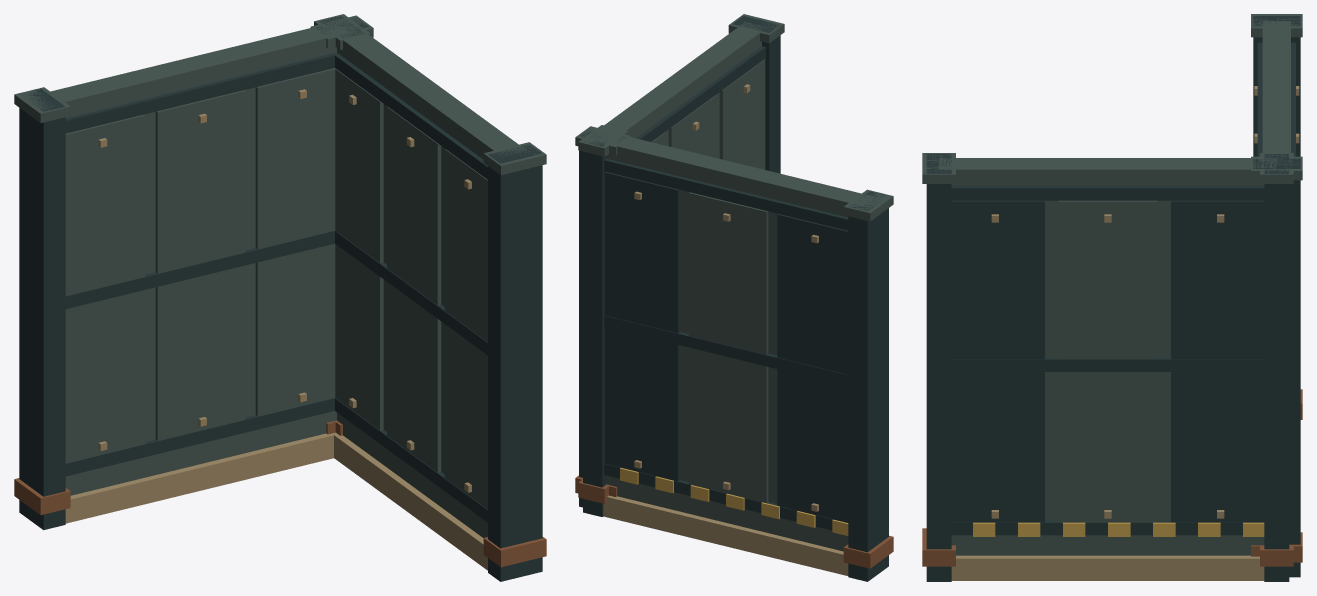
Rendered from FSA_ENV_Protected_Corner.glb.
The picture shows the model from 3 angles, left to right: view 1: azimuth 30°, elevation 25°; view 2: azimuth 150°, elevation 25°; view 3: azimuth 270°, elevation 25°; orthographic projection. The views are drawn at different scales.
Visible parts, largest first — view 1: X_PlateBack1_5, X_PlateBack0_5, X_PlateBack2_5, Z_Post3, X_ContinuousBlocker, X_Post0, Z_PlateBack1_5, Z_PlateBack0_5, Z_PlateBack2_5, Z_ContinuousBlocker, X_Foot, Z_Foot (+11 smaller); view 2: X_Plate1_5, X_Plate2_5, X_Plate0_5, X_ContinuousBlocker, X_Post0, X_Post3, X_Foot, Z_ContinuousBlocker, Z_PlateBack2_5, X_Rail3_78, X_Rail2_1, Z_Post3 (+9 smaller); view 3: Z_Plate1_5, Z_Plate0_5, Z_Plate2_5, Z_ContinuousBlocker, Z_Post3, Z_Post0, Z_Foot, X_Post3, Z_Rail3_78, Z_Rail2_1, X_ContinuousBlocker, Z_Rail0_5 (+7 smaller).
Boxes of the visible parts, box(x1,y1,x2,y2) form: X_PlateBack1_5: box(155, 90, 245, 440); X_PlateBack0_5: box(65, 114, 145, 463); X_PlateBack2_5: box(255, 68, 335, 416); Z_Post3: box(488, 144, 542, 581); X_ContinuousBlocker: box(50, 22, 348, 495); X_Post0: box(19, 89, 65, 530); Z_PlateBack1_5: box(387, 106, 441, 472); Z_PlateBack0_5: box(335, 69, 383, 430); Z_PlateBack2_5: box(444, 149, 487, 509); Z_ContinuousBlocker: box(332, 26, 526, 537); X_Foot: box(65, 433, 336, 523); Z_Foot: box(332, 432, 487, 570); X_Plate1_5: box(688, 192, 768, 502); X_Plate2_5: box(604, 172, 679, 481); X_Plate0_5: box(777, 214, 848, 522); X_ContinuousBlocker: box(598, 133, 874, 551); X_Post0: box(848, 191, 888, 581); X_Post3: box(583, 129, 615, 516); X_Foot: box(603, 495, 848, 575); Z_ContinuousBlocker: box(593, 22, 766, 158); Z_PlateBack2_5: box(719, 59, 765, 169); X_Rail3_78: box(604, 158, 848, 230); X_Rail2_1: box(604, 315, 848, 386); Z_Post3: box(733, 16, 780, 173); Z_Plate1_5: box(1058, 200, 1157, 522); Z_Plate0_5: box(1171, 200, 1264, 522); Z_Plate2_5: box(951, 200, 1044, 522); Z_ContinuousBlocker: box(939, 158, 1276, 555); Z_Post3: box(926, 154, 951, 581); Z_Post0: box(1264, 154, 1289, 581); Z_Foot: box(951, 555, 1264, 580); X_Post3: box(1253, 158, 1300, 577); Z_Rail3_78: box(951, 186, 1264, 200); Z_Rail2_1: box(951, 357, 1264, 371); X_ContinuousBlocker: box(1262, 21, 1290, 163); Z_Rail0_5: box(951, 520, 1242, 535).
Size of the model in its own units: 3.38 by 4 by 3.38.
